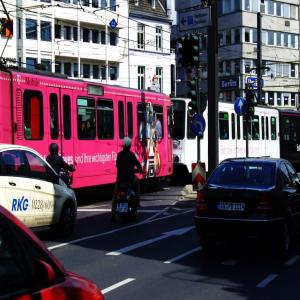Vehicle-registration-plate: (219, 205, 245, 211)
